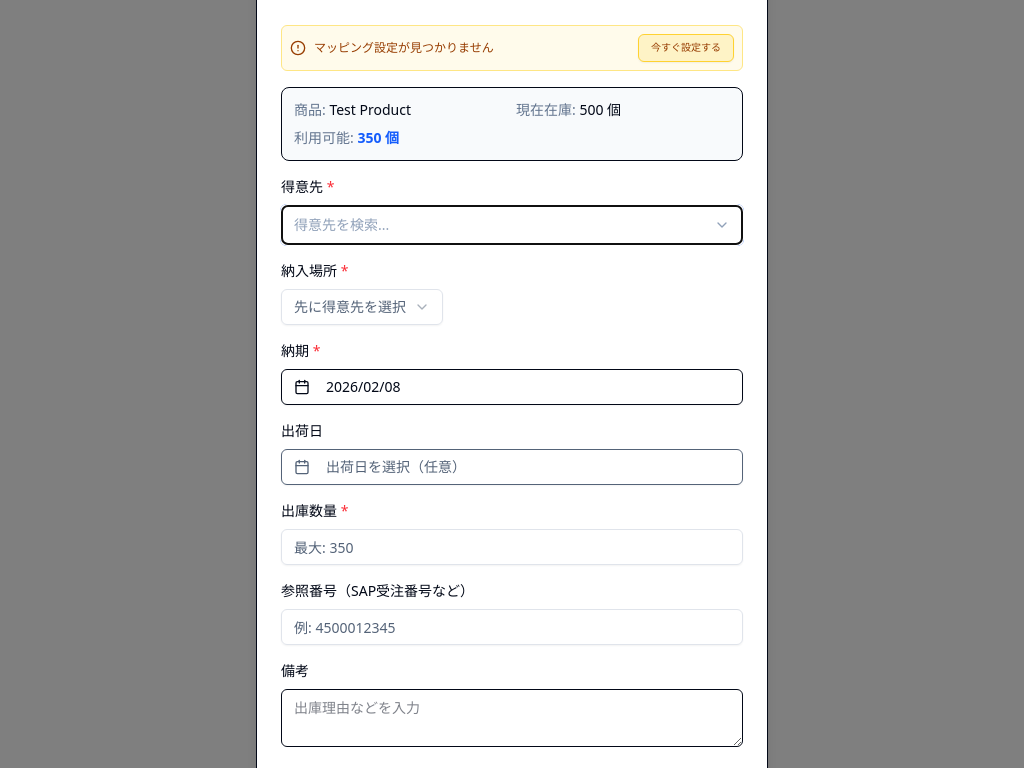
Test case: QuickWithdrawalDialog › shows customer select and fetches delivery places when customer is selected
// Select customer
Step 1. Click the button "得意先を検索..." → (342, 224), box [281,205,743,245]
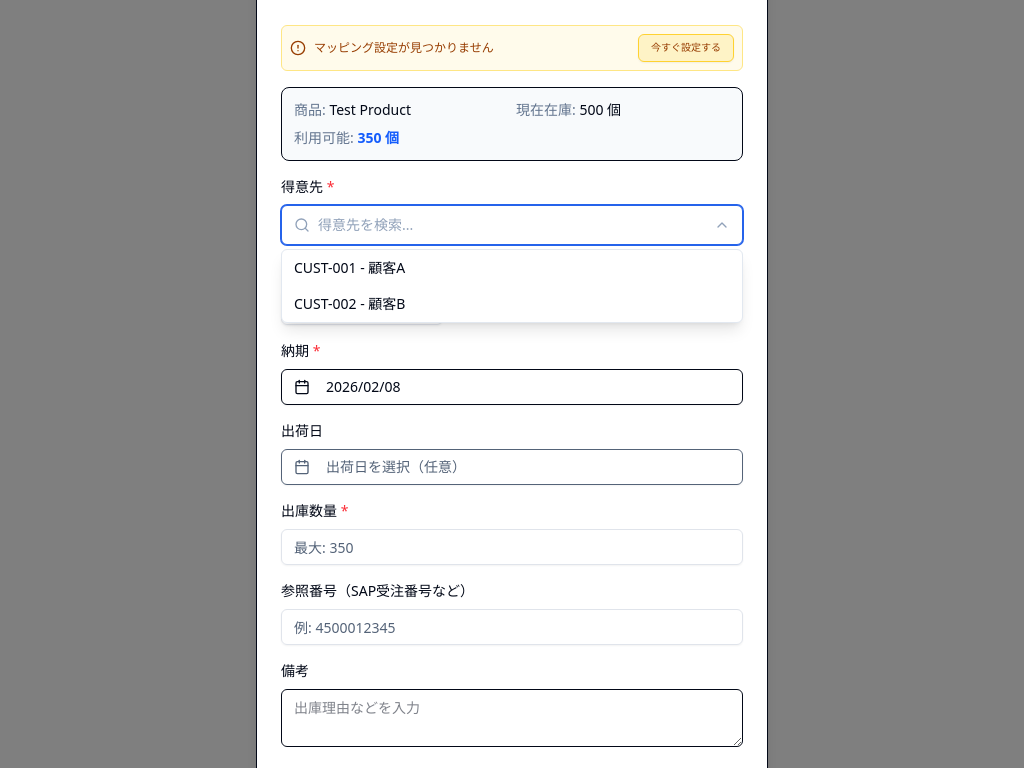
Step 2. Click the button "CUST-001 - 顧客A" → (350, 268), box [282,250,742,286]
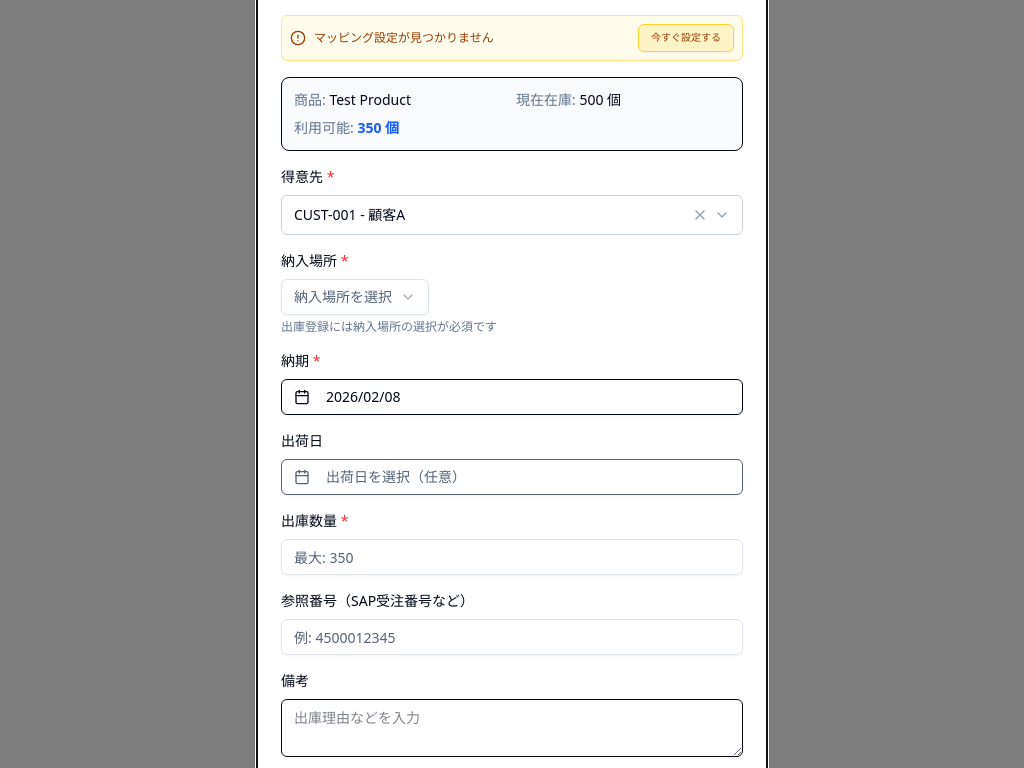
Expected: the text "納入場所を選択" is enabled, [294,287,392,307]
Now the text "納入場所を選択" is shown, box [294,287,392,307]
// Check delivery place options
Step 3. Click the dropdown "納入場所を選択" → (355, 297), box [281,279,429,315]
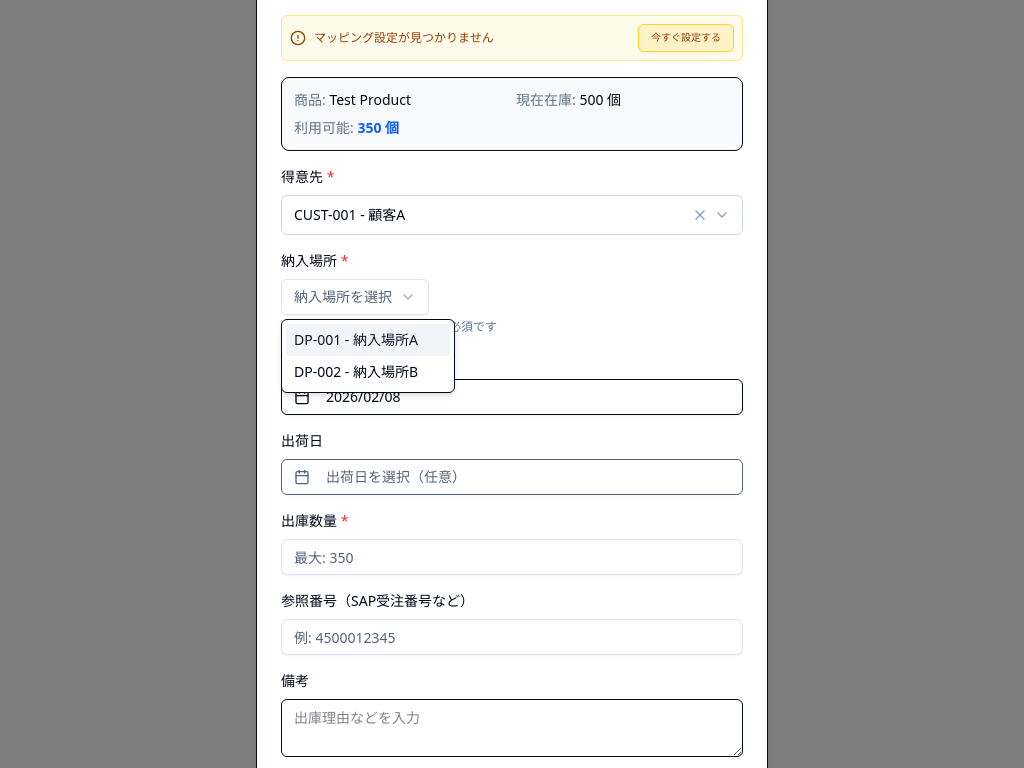
Now the text "DP-001 - 納入場所A" is shown, box [294,330,418,350]
Now the text "DP-002 - 納入場所B" is shown, box [294,362,418,382]
